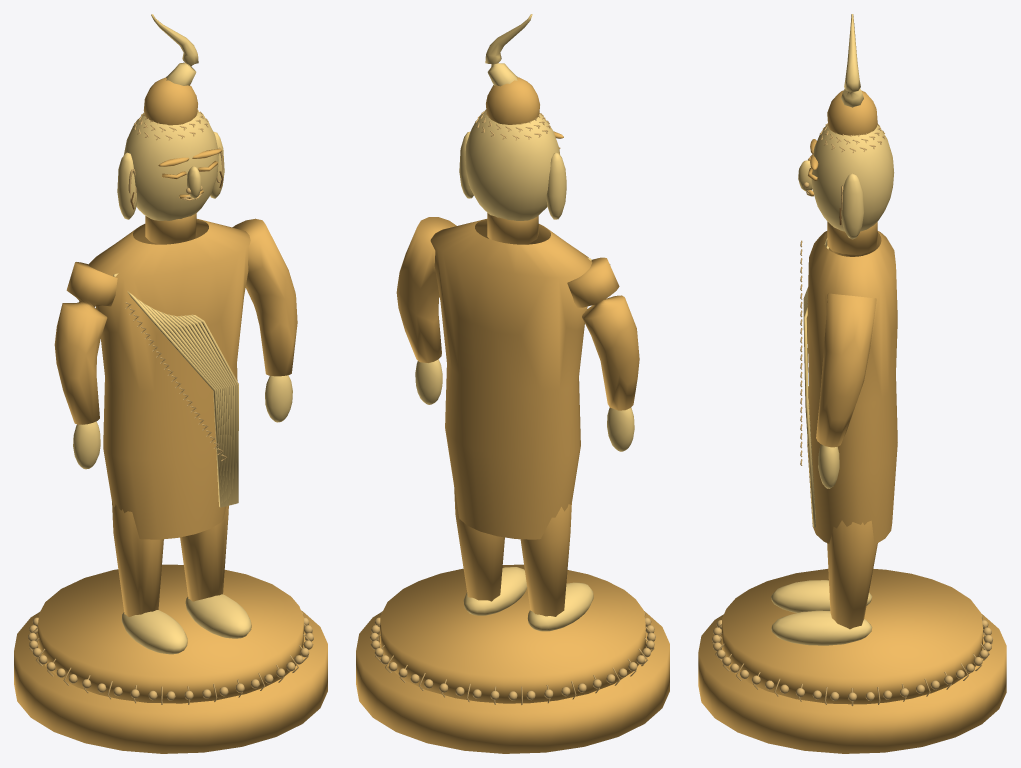
Rendered from buddha-standing-refined.glb.
3 views of the same model, side by side, from view 1: azimuth 30°, elevation 25°; view 2: azimuth 150°, elevation 25°; view 3: azimuth 270°, elevation 25° (orthographic).
Visible parts, largest first — view 1: buddha-standing / Antique warm gold, buddha-standing / Raised gold ornament, Cupid lip ridge.005; view 2: buddha-standing / Antique warm gold, buddha-standing / Raised gold ornament, Cupid lip ridge.005; view 3: buddha-standing / Antique warm gold, buddha-standing / Raised gold ornament, Cupid lip ridge.005.
Part boxes in pixels (<box>): buddha-standing / Antique warm gold: <box>14,77,327,753</box>; buddha-standing / Raised gold ornament: <box>73,14,292,654</box>; Cupid lip ridge.005: <box>28,110,313,704</box>; buddha-standing / Antique warm gold: <box>356,77,669,753</box>; buddha-standing / Raised gold ornament: <box>415,14,634,631</box>; Cupid lip ridge.005: <box>370,109,655,704</box>; buddha-standing / Antique warm gold: <box>698,90,1006,753</box>; buddha-standing / Raised gold ornament: <box>771,14,894,645</box>; Cupid lip ridge.005: <box>712,123,992,705</box>.
Bounding box in the file's own units: 1.7 × 4.05 × 1.7.
